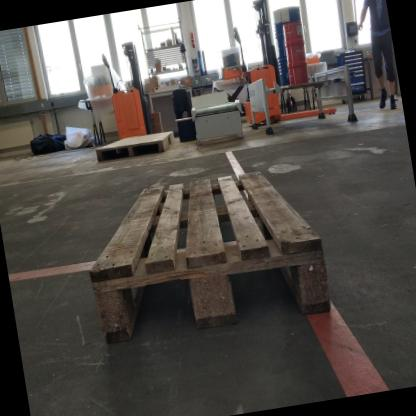BoxFace: (88, 168, 334, 349), (95, 127, 177, 164)
